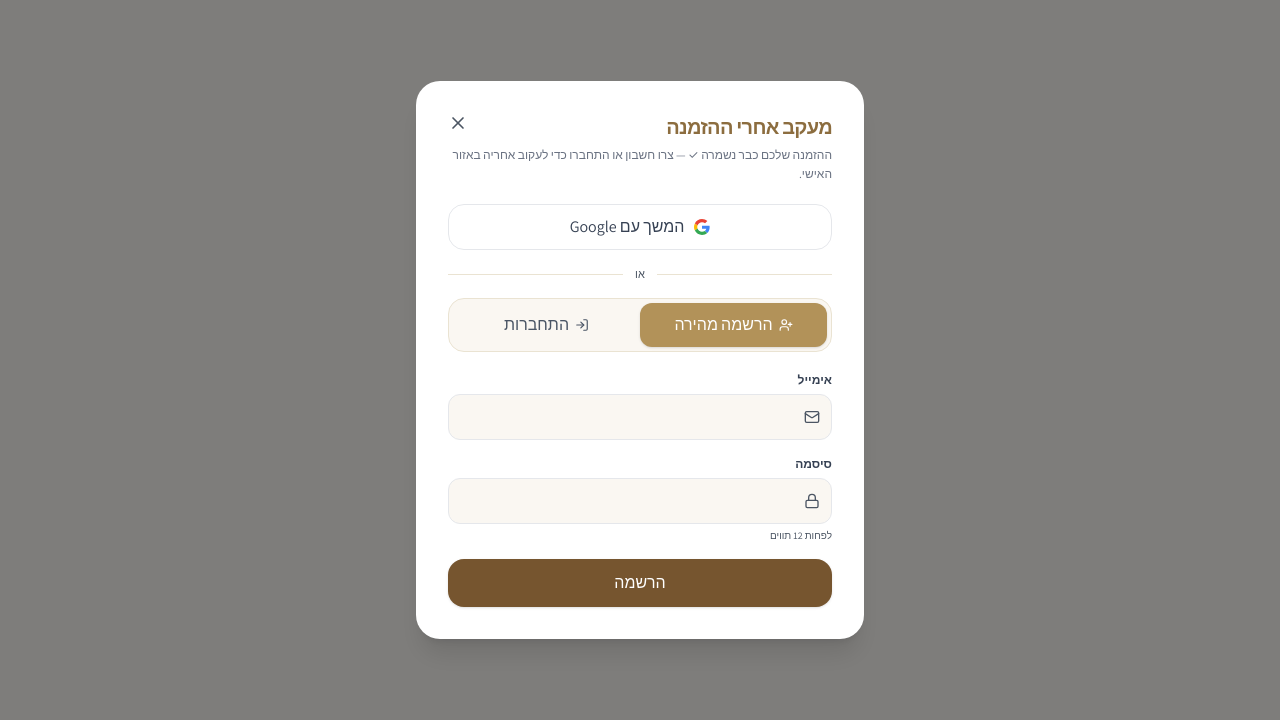
Test: AuthModal › validates email and the 12-character registration policy
In the field labelled "אימייל": (640, 417) left=448, top=394, right=832, bottom=440, type "bad"
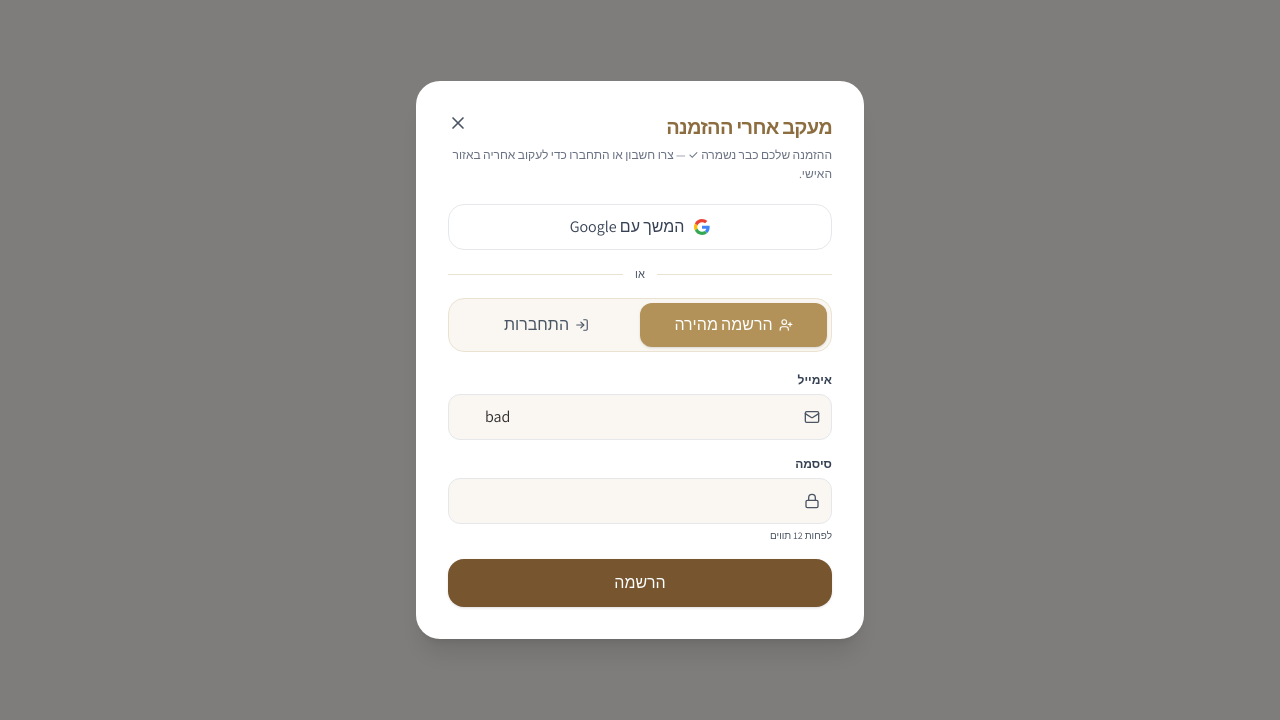
In the password field labelled "סיסמה": (640, 501) left=448, top=478, right=832, bottom=524, type "StrongPass123!"
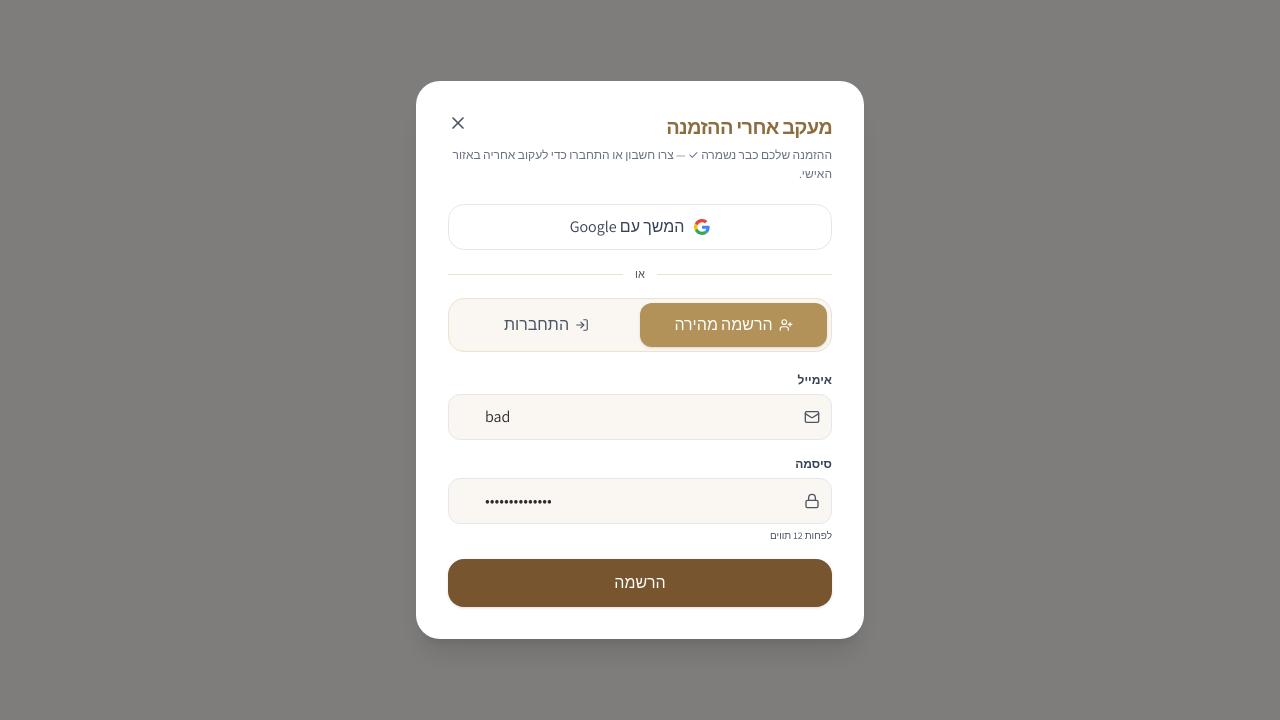
Submit the form labelled "אימייל", box left=448, top=372, right=832, bottom=607
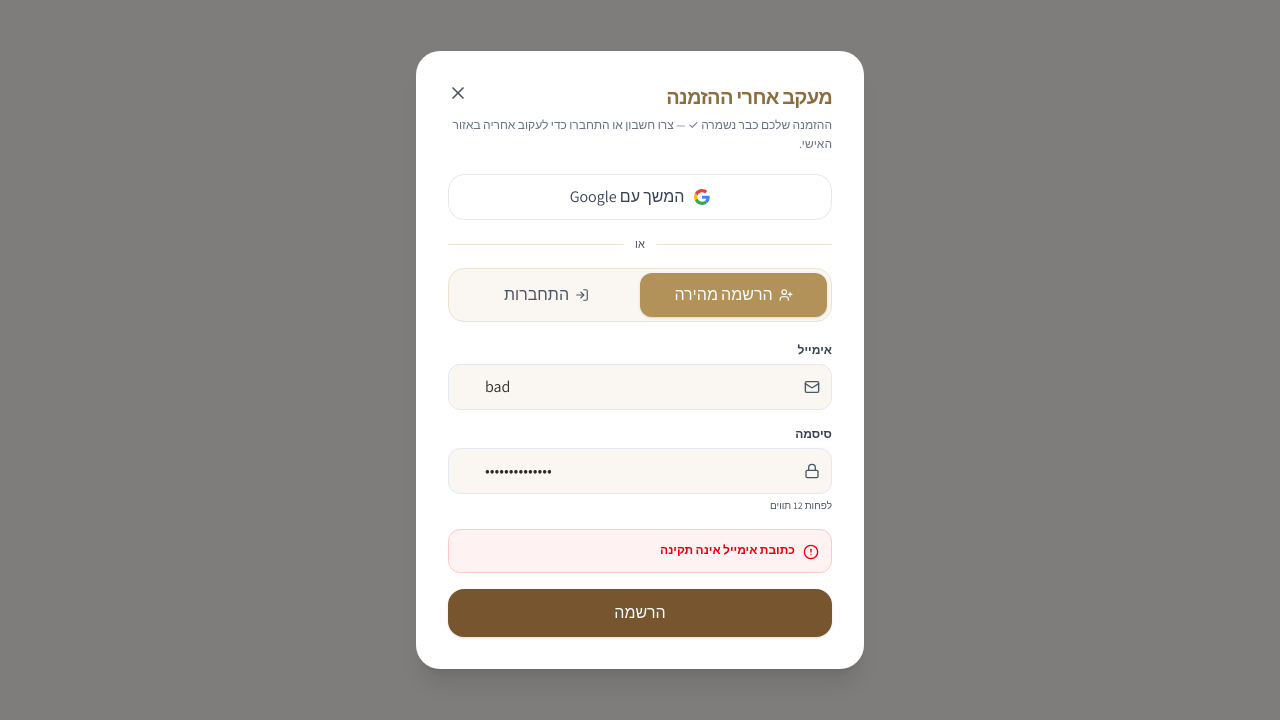
Expected: the text "כתובת אימייל אינה תקינה" is shown, left=448, top=529, right=832, bottom=573
Replace the text in the field labelled "אימייל" with "a@b.com": (640, 387) left=448, top=364, right=832, bottom=410
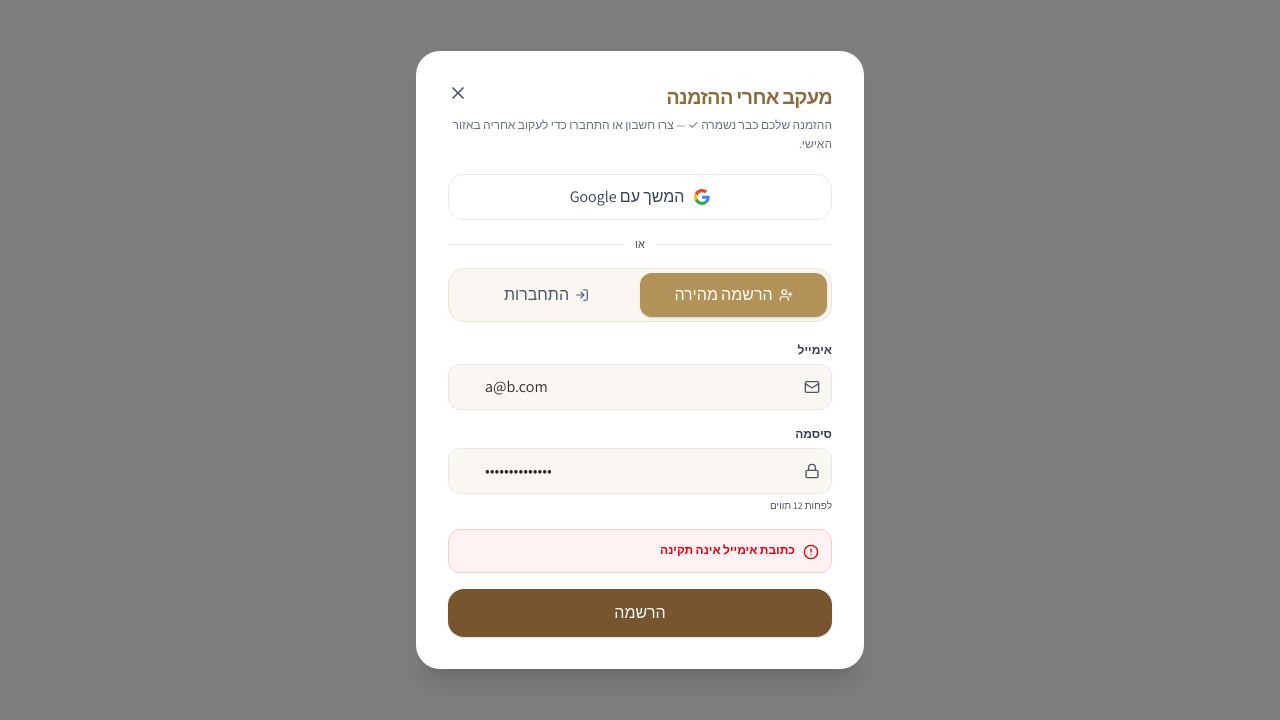
In the password field labelled "סיסמה": (640, 471) left=448, top=448, right=832, bottom=494, type "12345678901"
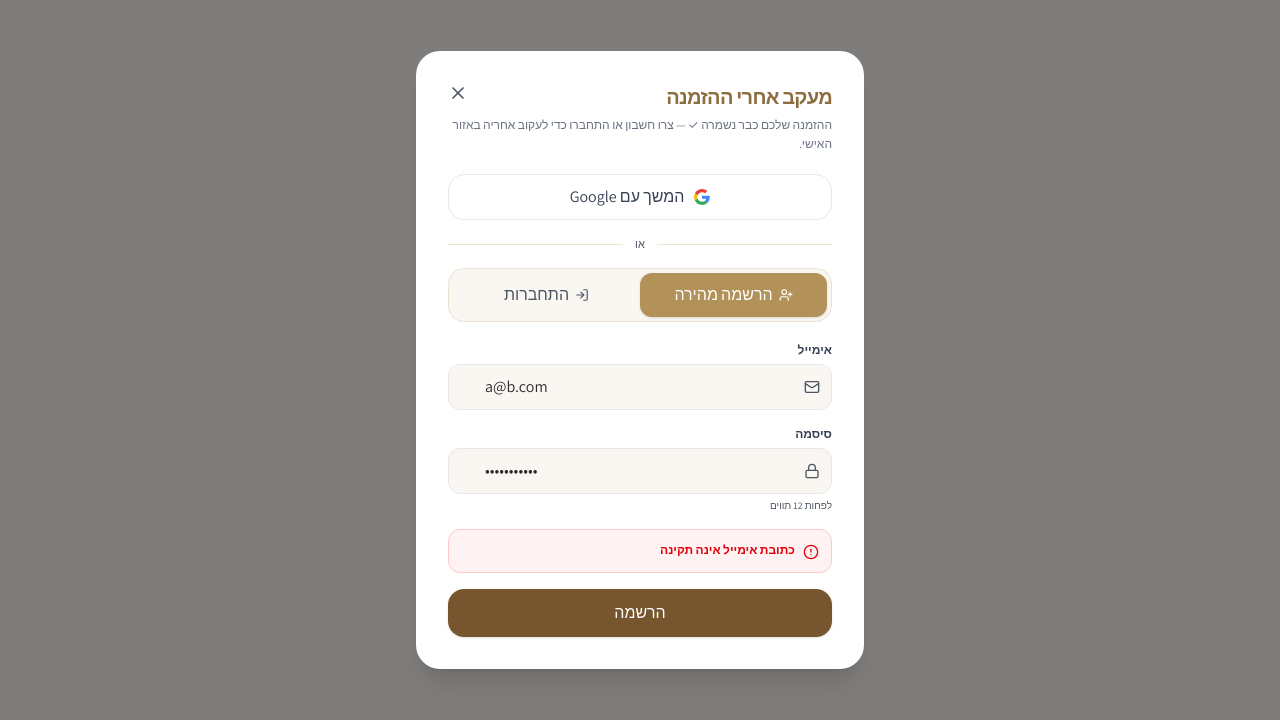
Submit the form labelled "אימייל", box left=448, top=342, right=832, bottom=637
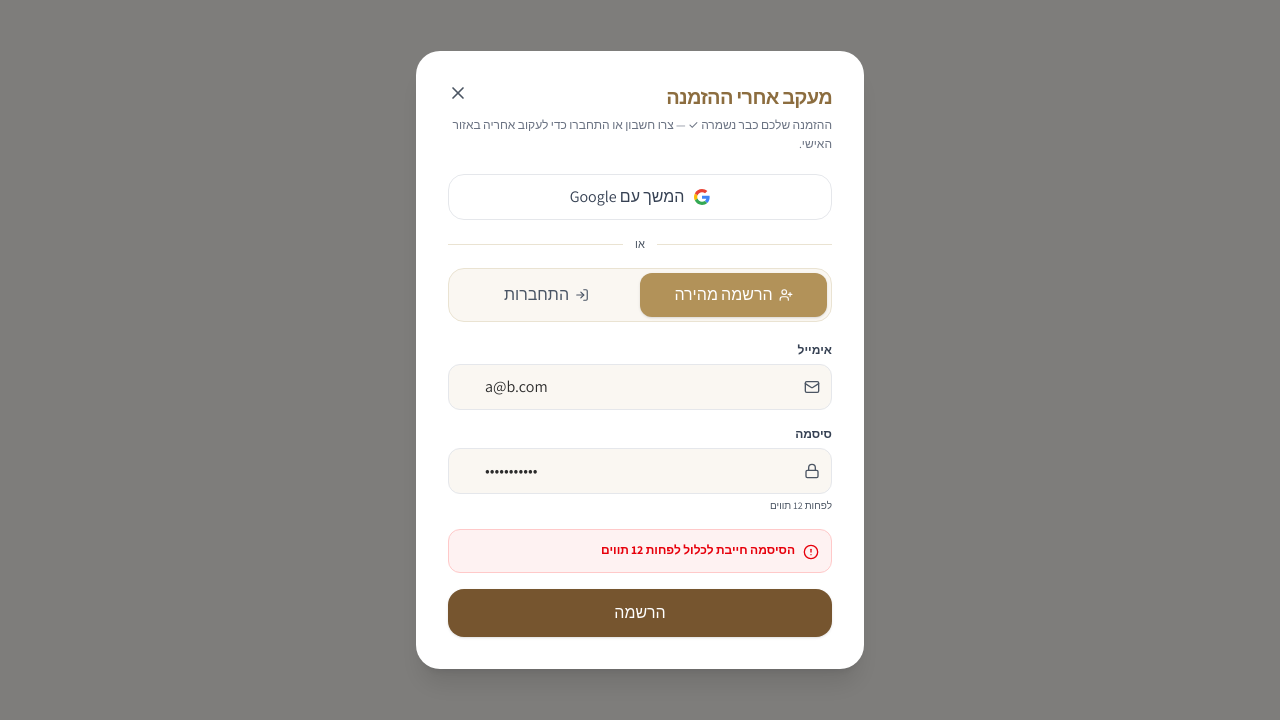
Expected: the text "הסיסמה חייבת לכלול לפחות 12 תווים" is shown, left=448, top=529, right=832, bottom=573
